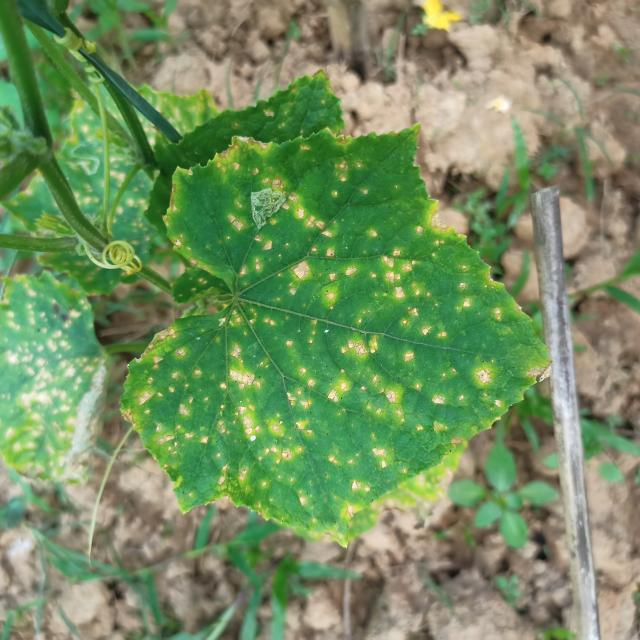disease_cucumber: (145, 141, 538, 527)
